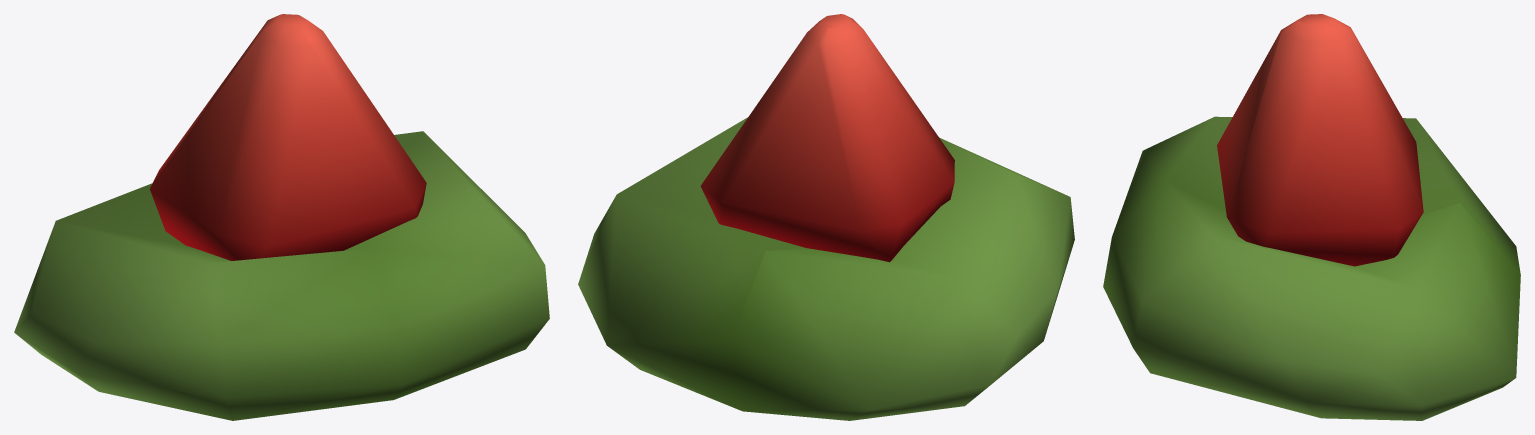
Rendered from Sweets_MatchaMochi.fbx.
The picture shows the model from 3 angles, left to right: view 1: azimuth 30°, elevation 25°; view 2: azimuth 150°, elevation 25°; view 3: azimuth 270°, elevation 25°; orthographic projection. The views are drawn at different scales.
Parts seen in each view (by area): view 1: Sweets_MatchaMochi; view 2: Sweets_MatchaMochi; view 3: Sweets_MatchaMochi.
Part boxes in pixels (x1,y1,x2,y2): Sweets_MatchaMochi: (14, 14, 549, 420); Sweets_MatchaMochi: (578, 14, 1074, 420); Sweets_MatchaMochi: (1103, 14, 1520, 420).
Size of the model in its own units: 0.2426 by 0.1791 by 0.2025.
1 material, 1 textured.
